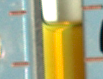border: (80, 3, 103, 12), (7, 9, 30, 17), (10, 60, 32, 68), (83, 56, 103, 63)
liquidlevel: (41, 16, 83, 32)
